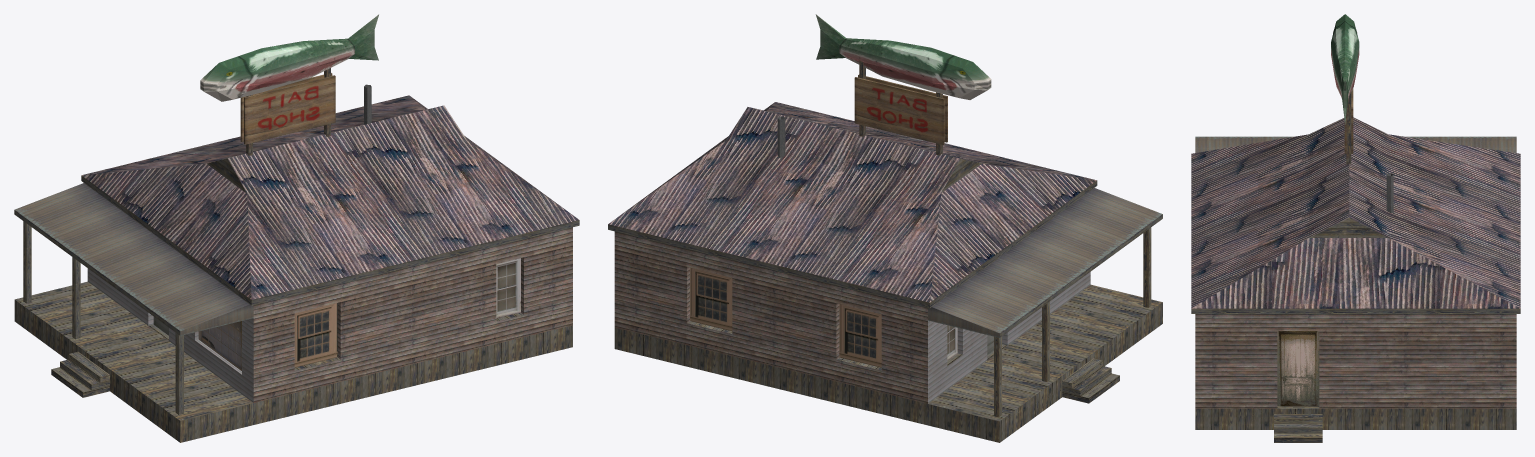
Rendered from des_baitshop.obj.
3 renders of one model, left to right at view 1: azimuth 30°, elevation 25°; view 2: azimuth 150°, elevation 25°; view 3: azimuth 270°, elevation 25°, orthographic. The views are drawn at different scales.
Parts seen in each view (by area): view 1: des_baitshop; view 2: des_baitshop; view 3: des_baitshop.
Part boxes in pixels (x1,y1,x2,y2): des_baitshop: (14, 14, 579, 442); des_baitshop: (608, 14, 1162, 442); des_baitshop: (1191, 14, 1520, 442).
Bounding box in the file's own units: 12.79 × 8.33 × 8.44.
14 materials, 14 textured.
